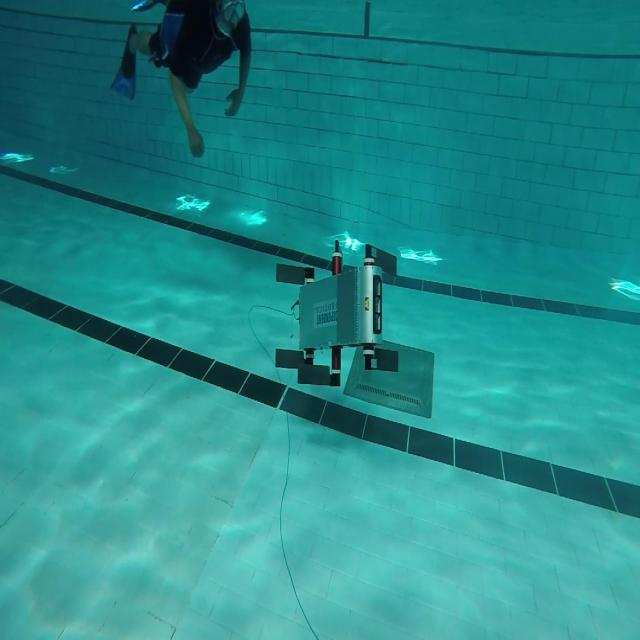human: (109, 0, 252, 159)
